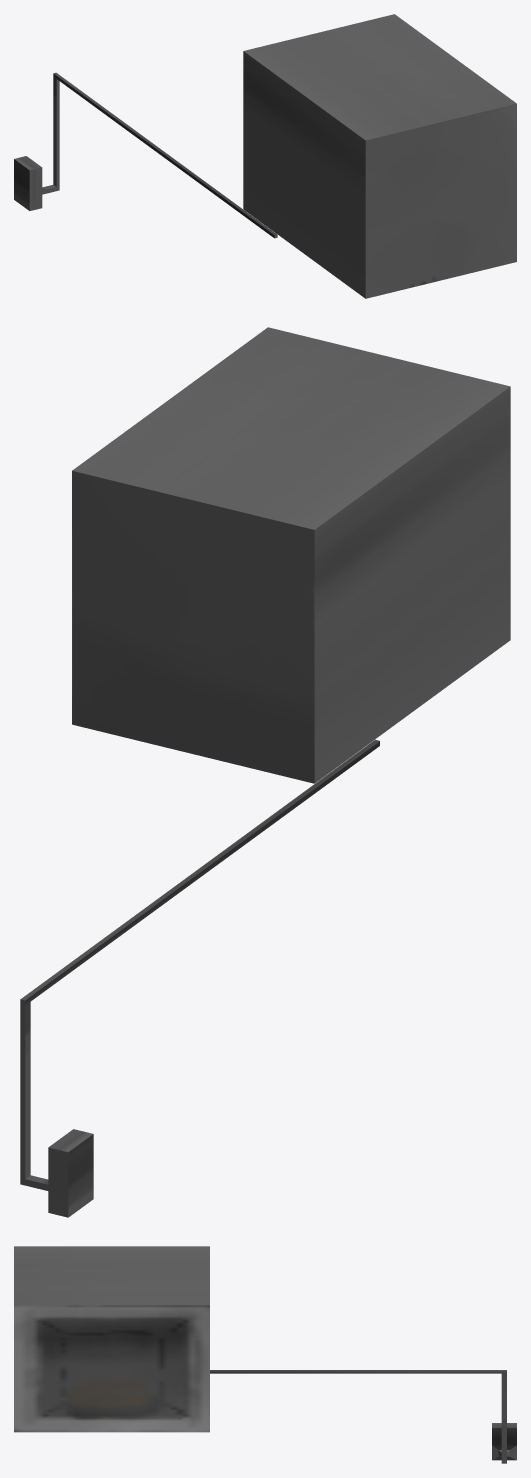
The model's file is micro.fbx.
The picture shows the model from 3 angles, top to bottom: view 1: azimuth 30°, elevation 25°; view 2: azimuth 150°, elevation 25°; view 3: azimuth 270°, elevation 25°; orthographic projection. The views are drawn at different scales.
Parts seen in each view (by area): view 1: Cube.001; view 2: Cube.001; view 3: Cube.001.
Part boxes in pixels (x1,y1,x2,y2): Cube.001: [14, 14, 516, 298]; Cube.001: [20, 327, 510, 1217]; Cube.001: [14, 1246, 516, 1463].
Size of the model in its own units: 62.53 by 88.3 by 180.
Materials: 1 (1 with a texture image).
